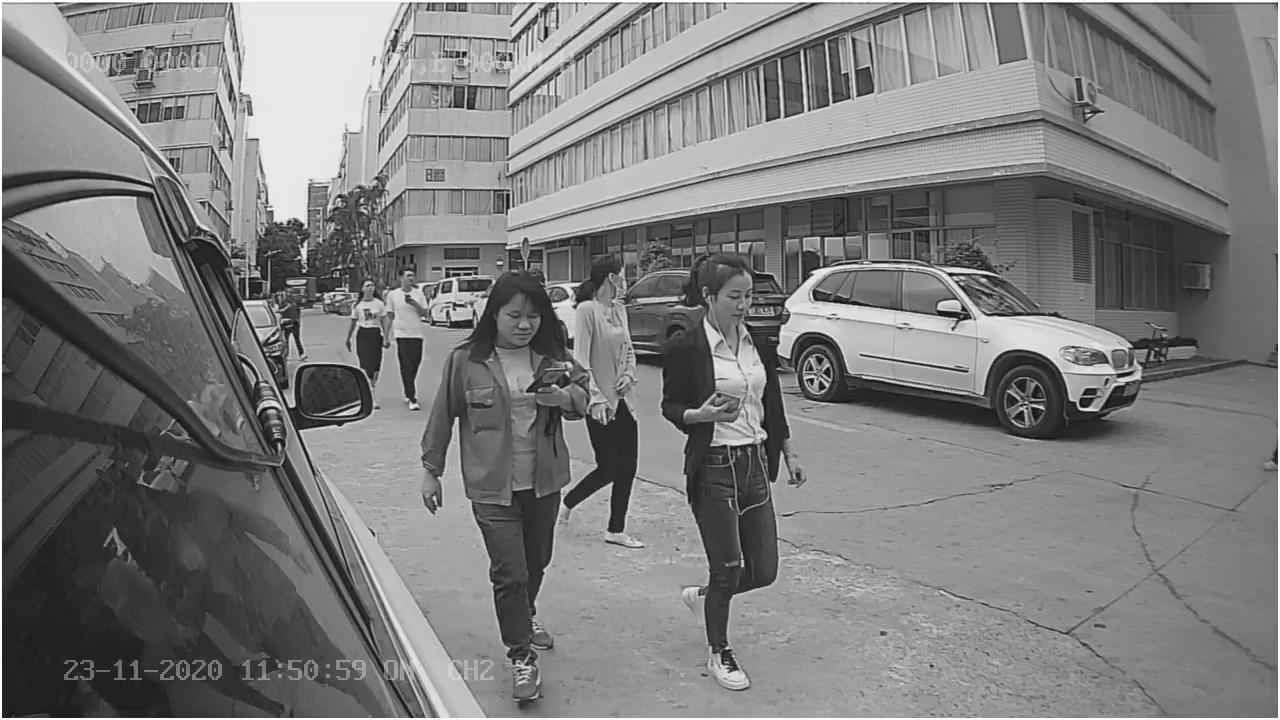person: (658, 250, 811, 686), (408, 260, 589, 516)
